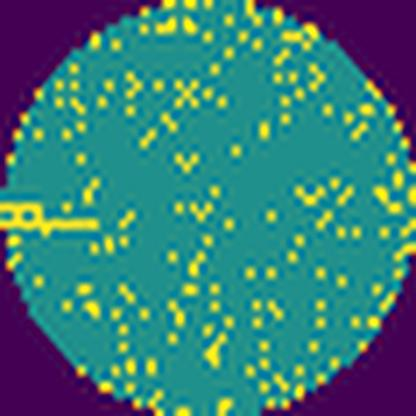Scratch: (0, 193, 102, 241)
